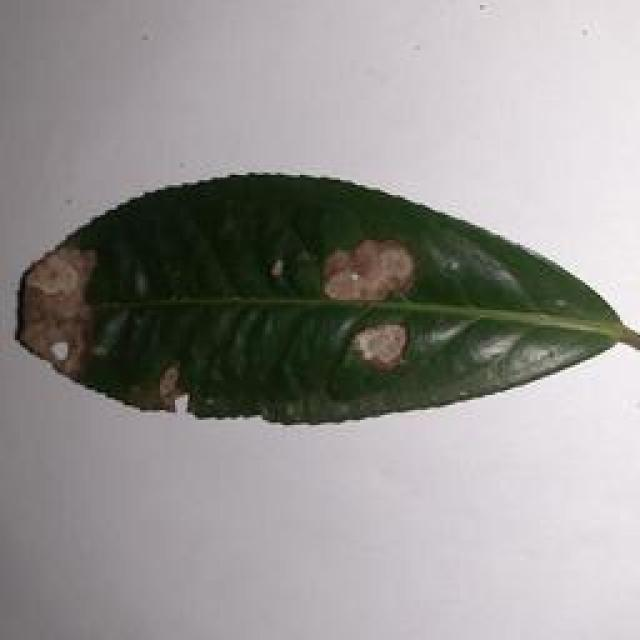Gray Blight: (10, 153, 640, 437)
